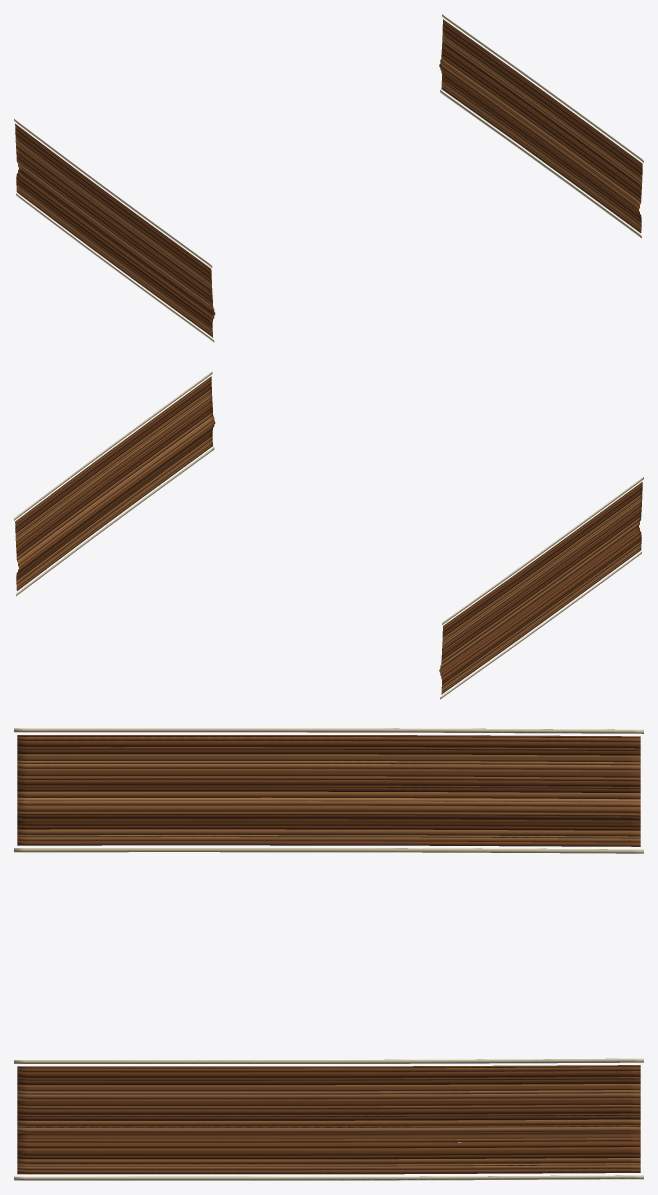
The model's file is stripe_woodgrain.glb.
3 renders of one model, top to bottom at view 1: azimuth 30°, elevation 25°; view 2: azimuth 150°, elevation 25°; view 3: azimuth 270°, elevation 25°, orthographic. The views are drawn at different scales.
Visible parts, largest first — view 1: grain-1_19, grain1_8, grain1_5, grain-1_18, grain1_16, grain-1_16, grain-1_8, grain1_13, grain-1_5, grain1_19, grain1_2, grain1_21 (+33 smaller); view 2: grain-1_19, grain1_8, grain-1_18, grain1_5, grain-1_16, grain-1_8, grain1_16, grain-1_5, grain1_13, grain1_2, grain1_19, grain-1_2 (+33 smaller); view 3: grain1_19, grain-1_8, grain1_8, grain-1_16, grain1_16, grain-1_5, grain-1_19, grain1_5, grain-1_13, grain1_2, grain1_18, grain-1_2 (+42 smaller).
Part boxes in pixels (x1,y1,x2,y2): grain-1_19: [16, 176, 212, 325]; grain1_8: [442, 41, 641, 189]; grain1_5: [442, 32, 642, 179]; grain-1_18: [16, 173, 213, 320]; grain1_16: [439, 63, 639, 211]; grain-1_16: [18, 167, 215, 315]; grain-1_8: [16, 145, 212, 293]; grain1_13: [441, 55, 641, 202]; grain-1_5: [15, 136, 211, 284]; grain1_19: [441, 72, 641, 220]; grain1_2: [442, 23, 642, 170]; grain1_21: [441, 79, 641, 226]; grain-1_19: [441, 534, 641, 682]; grain1_8: [16, 398, 212, 547]; grain-1_18: [440, 531, 641, 678]; grain1_5: [15, 388, 211, 537]; grain-1_16: [439, 525, 639, 672]; grain-1_8: [442, 503, 641, 651]; grain1_16: [18, 420, 215, 569]; grain-1_5: [442, 494, 642, 641]; grain1_13: [16, 412, 213, 560]; grain1_2: [15, 380, 211, 528]; grain1_19: [16, 430, 212, 578]; grain-1_2: [442, 485, 642, 633]; grain1_19: [17, 1147, 640, 1155]; grain-1_8: [17, 769, 640, 777]; grain1_8: [17, 1098, 640, 1106]; grain-1_16: [17, 805, 640, 813]; grain1_16: [17, 1131, 640, 1139]; grain-1_5: [17, 754, 640, 762]; grain-1_19: [17, 819, 640, 827]; grain1_5: [17, 1084, 640, 1091]; grain-1_13: [17, 791, 640, 799]; grain1_2: [17, 1071, 640, 1078]; grain1_18: [17, 1141, 640, 1148]; grain-1_2: [17, 741, 640, 748].
Size of the model in its own units: 1.42 by 0.244 by 1.14.
